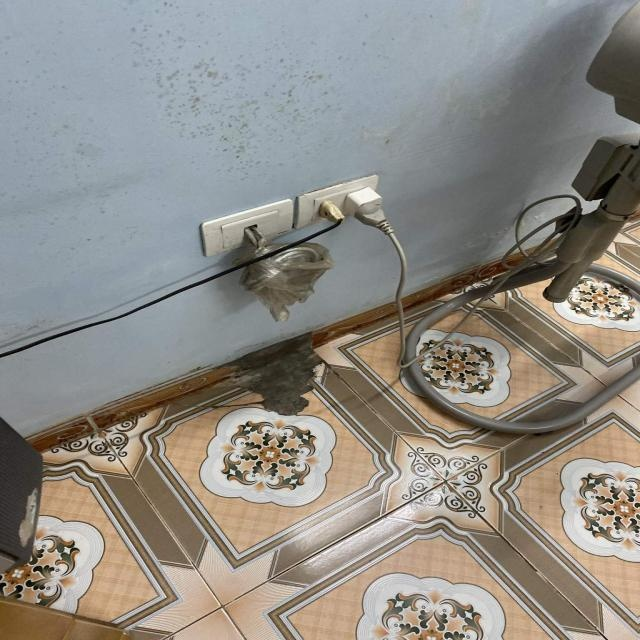outlet: (200, 198, 294, 257), (295, 173, 380, 230)
